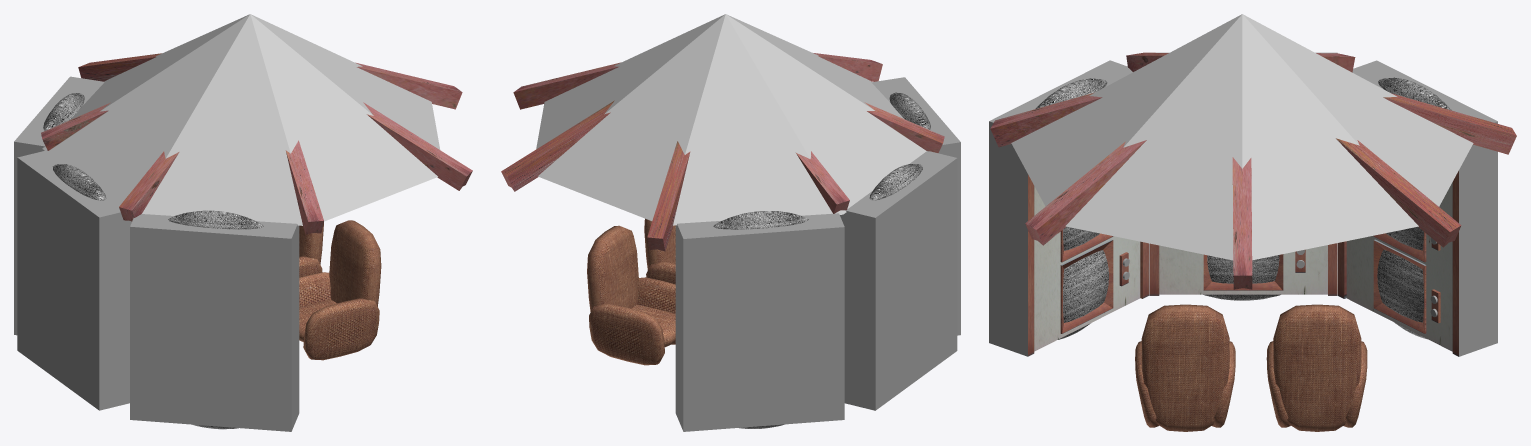
Rendered from station obser.fbx.
3 renders of one model, left to right at view 1: azimuth 30°, elevation 25°; view 2: azimuth 150°, elevation 25°; view 3: azimuth 270°, elevation 25°, orthographic. The views are drawn at different scales.
Visible parts, largest first — view 1: polySurface3 (×3), pCone1, subdivCube6 (×2), subdivCube8, pSphere2 (×3), pCube26, pCube25, pCube27, pCube24, pCube29, pCube23, subdivCube9 (+1 smaller); view 2: polySurface3 (×3), pCone1, subdivCube6 (×2), subdivCube9 (×2), pSphere2 (×3), pCube28, pCube29, pCube27, pCube24, pCube23, subdivCube8, pCube25 (+1 smaller); view 3: pCone1, polySurface3 (×3), subdivCube6 (×2), pSphere4 (×3), pCube11 (×3), pCube28, pCube26, pCube29, pCube27, pCube25, pSphere2 (×2), subdivCube8 (×2) (+3 smaller).
Boxes of the visible parts, x1,y1,x2,y2 form: polySurface3 (×3): [14, 76, 299, 431]; pCone1: [42, 14, 440, 225]; subdivCube6 (×2): [299, 220, 381, 306]; subdivCube8: [303, 298, 379, 360]; pSphere2 (×3): [43, 93, 263, 229]; pCube26: [363, 102, 472, 190]; pCube25: [285, 140, 323, 234]; pCube27: [355, 62, 462, 109]; pCube24: [119, 151, 179, 221]; pCube29: [78, 53, 161, 81]; pCube23: [41, 102, 110, 150]; subdivCube9: [299, 272, 330, 306]; polySurface3 (×3): [675, 77, 960, 431]; pCone1: [536, 14, 926, 225]; subdivCube6 (×2): [587, 218, 675, 311]; subdivCube9 (×2): [589, 261, 675, 365]; pSphere2 (×3): [713, 92, 930, 229]; pCube28: [501, 100, 614, 191]; pCube29: [647, 141, 690, 251]; pCube27: [513, 62, 620, 109]; pCube24: [864, 102, 944, 152]; pCube23: [796, 151, 849, 213]; subdivCube8: [637, 277, 675, 344]; pCube25: [813, 53, 882, 81]; pCone1: [1011, 14, 1473, 260]; polySurface3 (×3): [989, 52, 1497, 356]; subdivCube6 (×2): [1141, 304, 1361, 431]; pSphere4 (×3): [1058, 249, 1427, 339]; pCube11 (×3): [1060, 239, 1426, 333]; pCube28: [1336, 138, 1461, 247]; pCube26: [1025, 140, 1146, 245]; pCube29: [1383, 93, 1516, 154]; pCube27: [1232, 157, 1252, 289]; pCube25: [990, 92, 1102, 147]; pSphere2 (×2): [1035, 77, 1451, 110]; subdivCube8 (×2): [1135, 341, 1290, 427].
Bounding box in the file's own units: 15.15 × 12.03 × 15.08.
